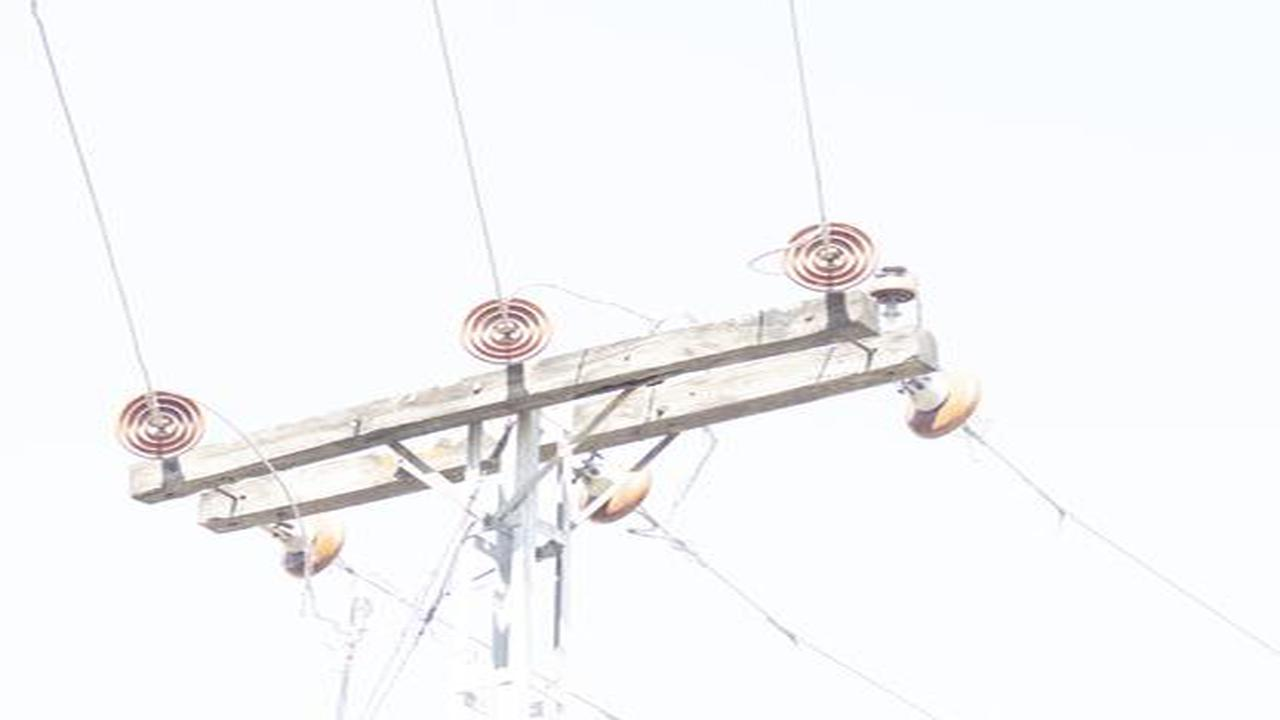insulator_disc: (780, 220, 879, 298), (115, 388, 208, 463), (459, 295, 554, 368), (570, 460, 660, 524), (899, 375, 988, 437), (273, 522, 351, 578)
insulator_pin: (870, 267, 920, 305)
